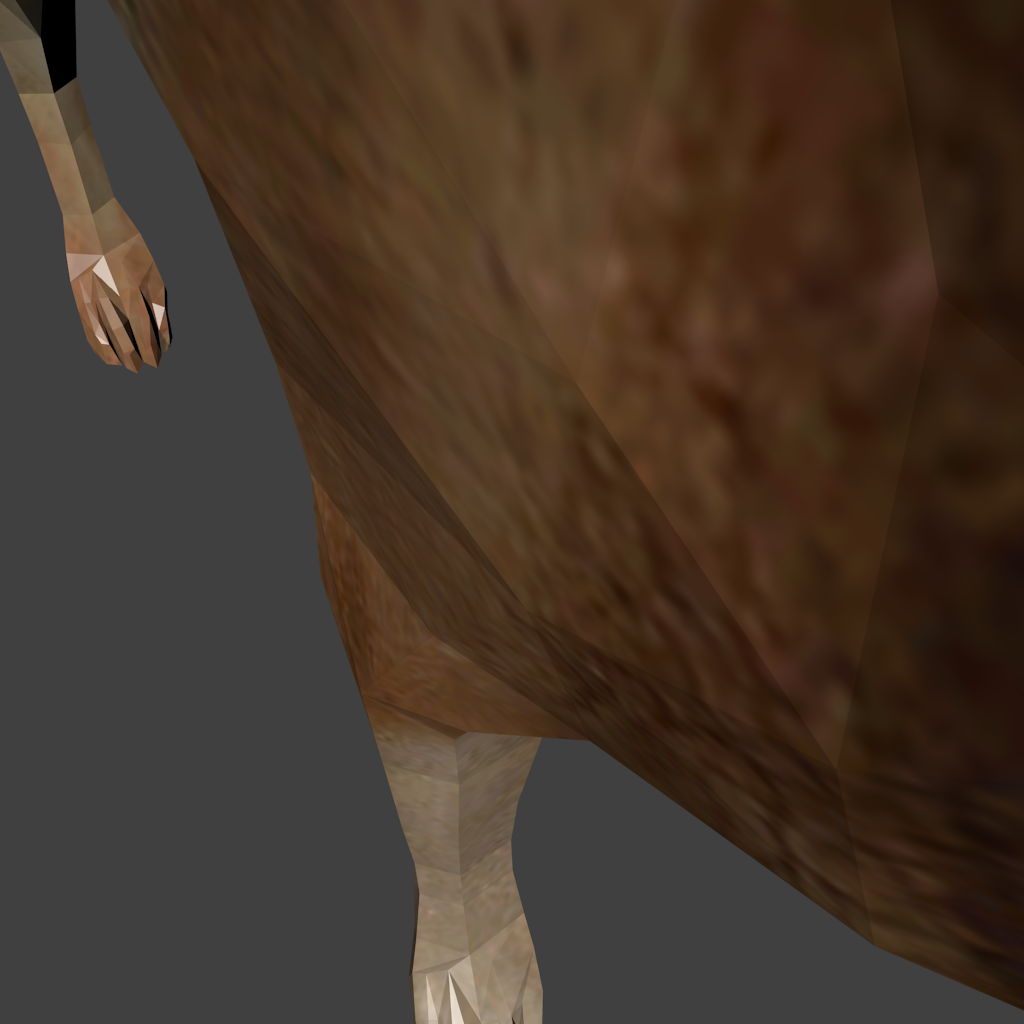Dog: (0, 0, 1024, 1024)
